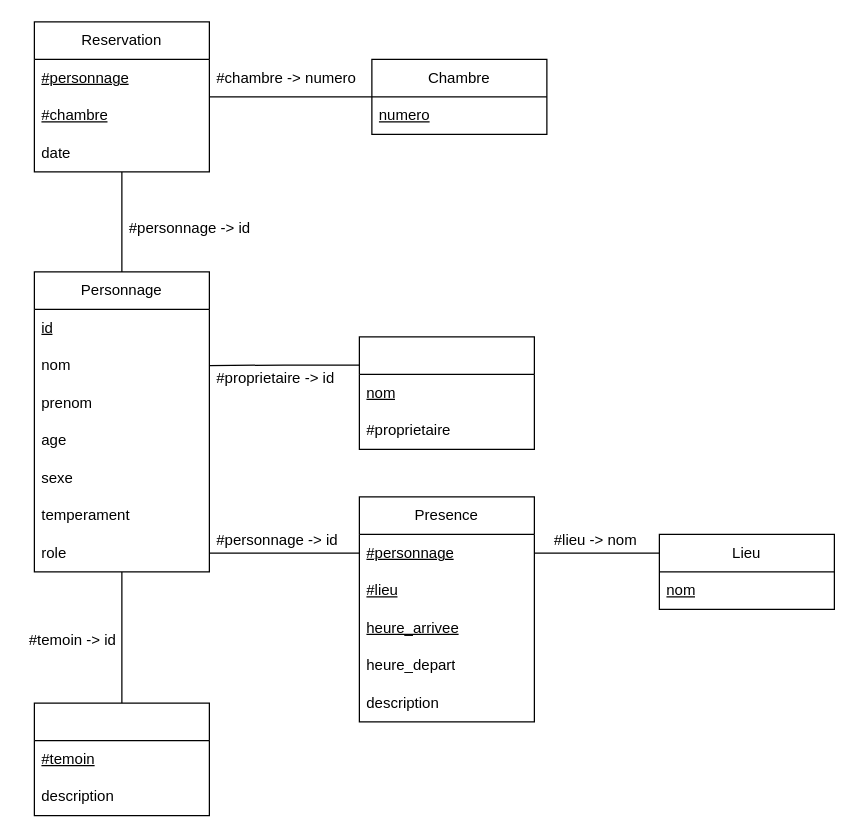
Image size: 856x838. Some labels were removed from this diagram. The box of each missing label's shape, as (x1, y1, x2, y2) in pixels:
Objet: (358, 336, 534, 449)
Temoignage: (33, 702, 209, 816)
